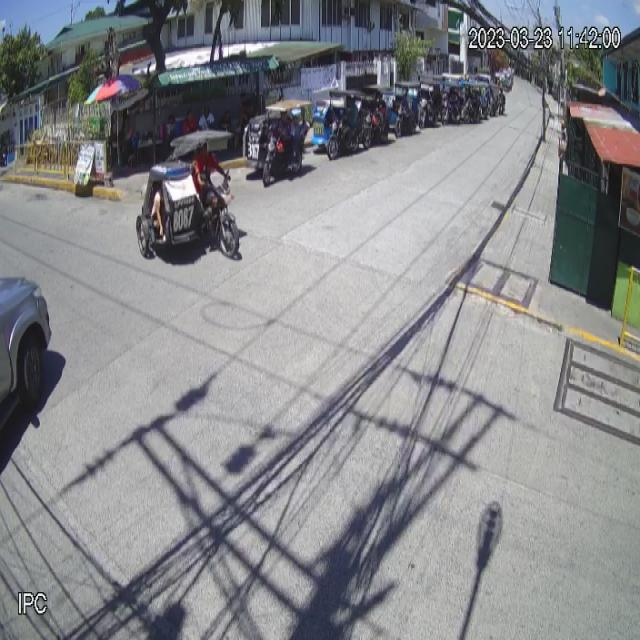Tricycle: (136, 128, 240, 258)
